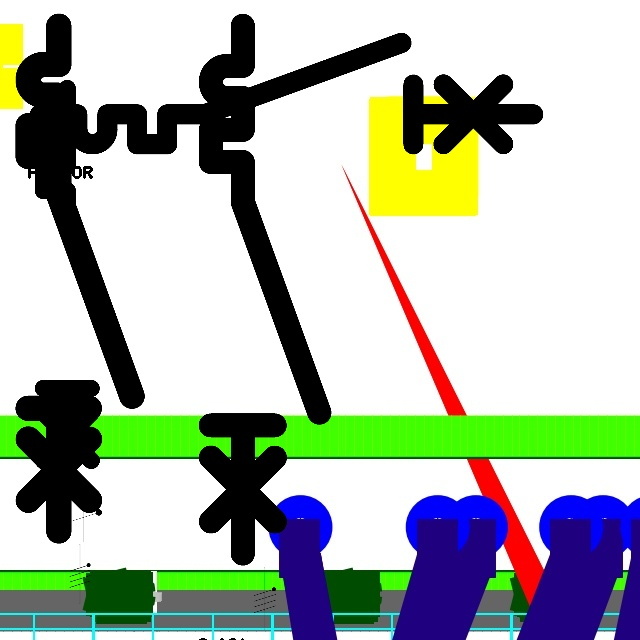interruptor_termomagnetico: (197, 12, 333, 567), (15, 13, 145, 544), (27, 30, 546, 157), (33, 78, 135, 494)
